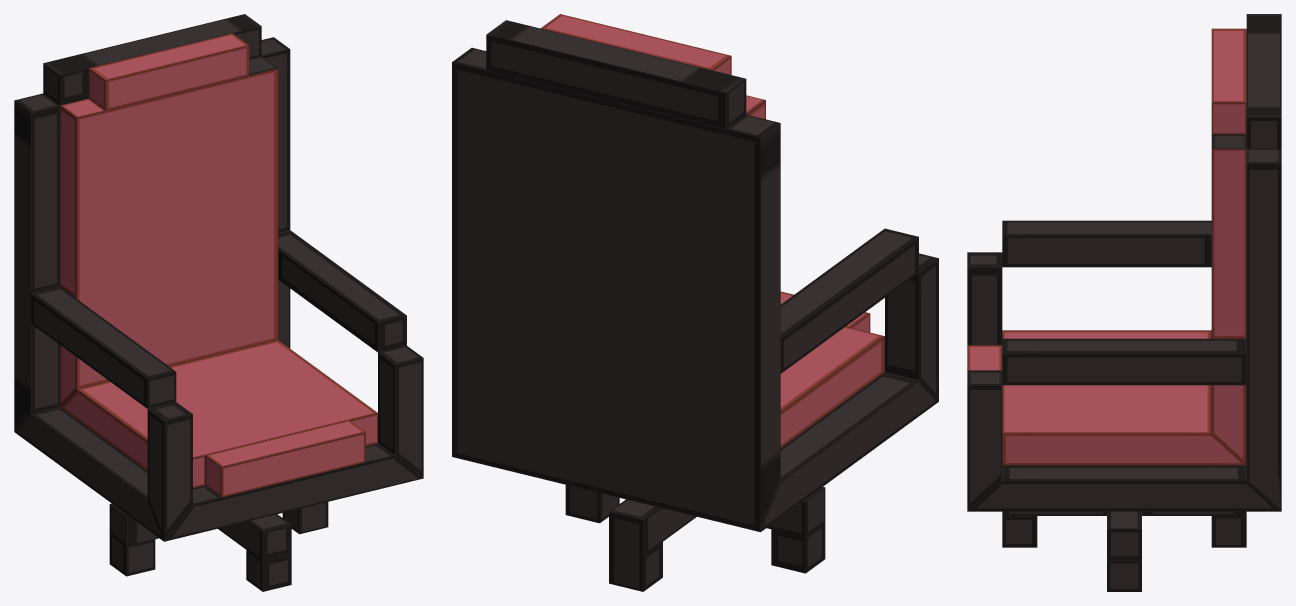
File: CHAIR.glb
The picture shows the model from 3 angles, left to right: view 1: azimuth 30°, elevation 25°; view 2: azimuth 150°, elevation 25°; view 3: azimuth 270°, elevation 25°; orthographic projection. The views are drawn at different scales.
Visible parts, largest first — view 1: CHAIR; view 2: CHAIR; view 3: CHAIR.
Part boxes in pixels (x1,y1,x2,y2): CHAIR: (14, 14, 423, 591); CHAIR: (452, 14, 938, 591); CHAIR: (967, 14, 1281, 591).
Bounding box in the file's own units: 1.35 × 2.25 × 1.35.
Materials: 1 (1 with a texture image).
